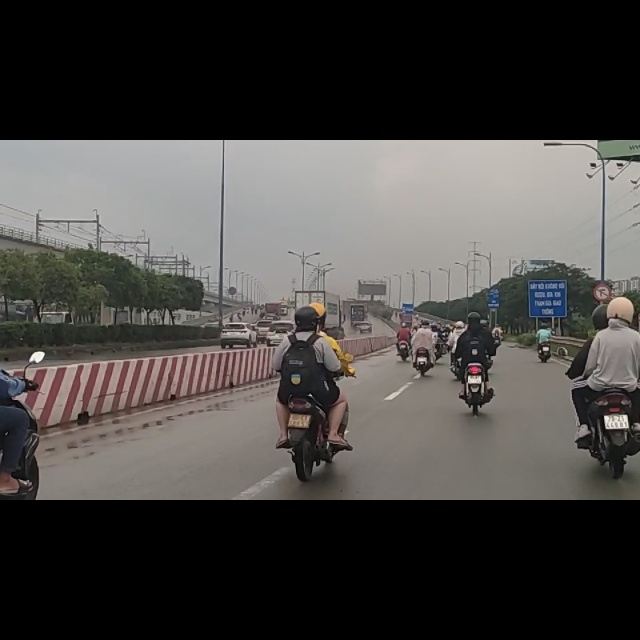bien_cam: (595, 255, 611, 286)
